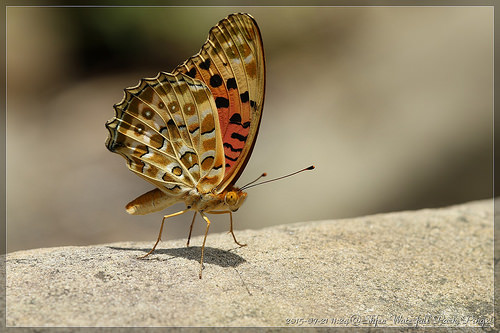Argyreus hyperbius: (100, 7, 318, 273)
butterfly: (102, 9, 320, 275)
